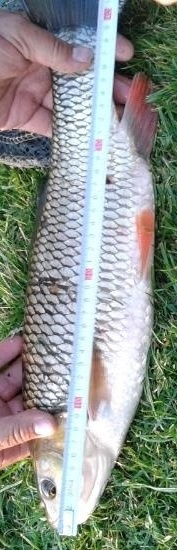Leuciscus cephalus: (20, 1, 157, 530)
